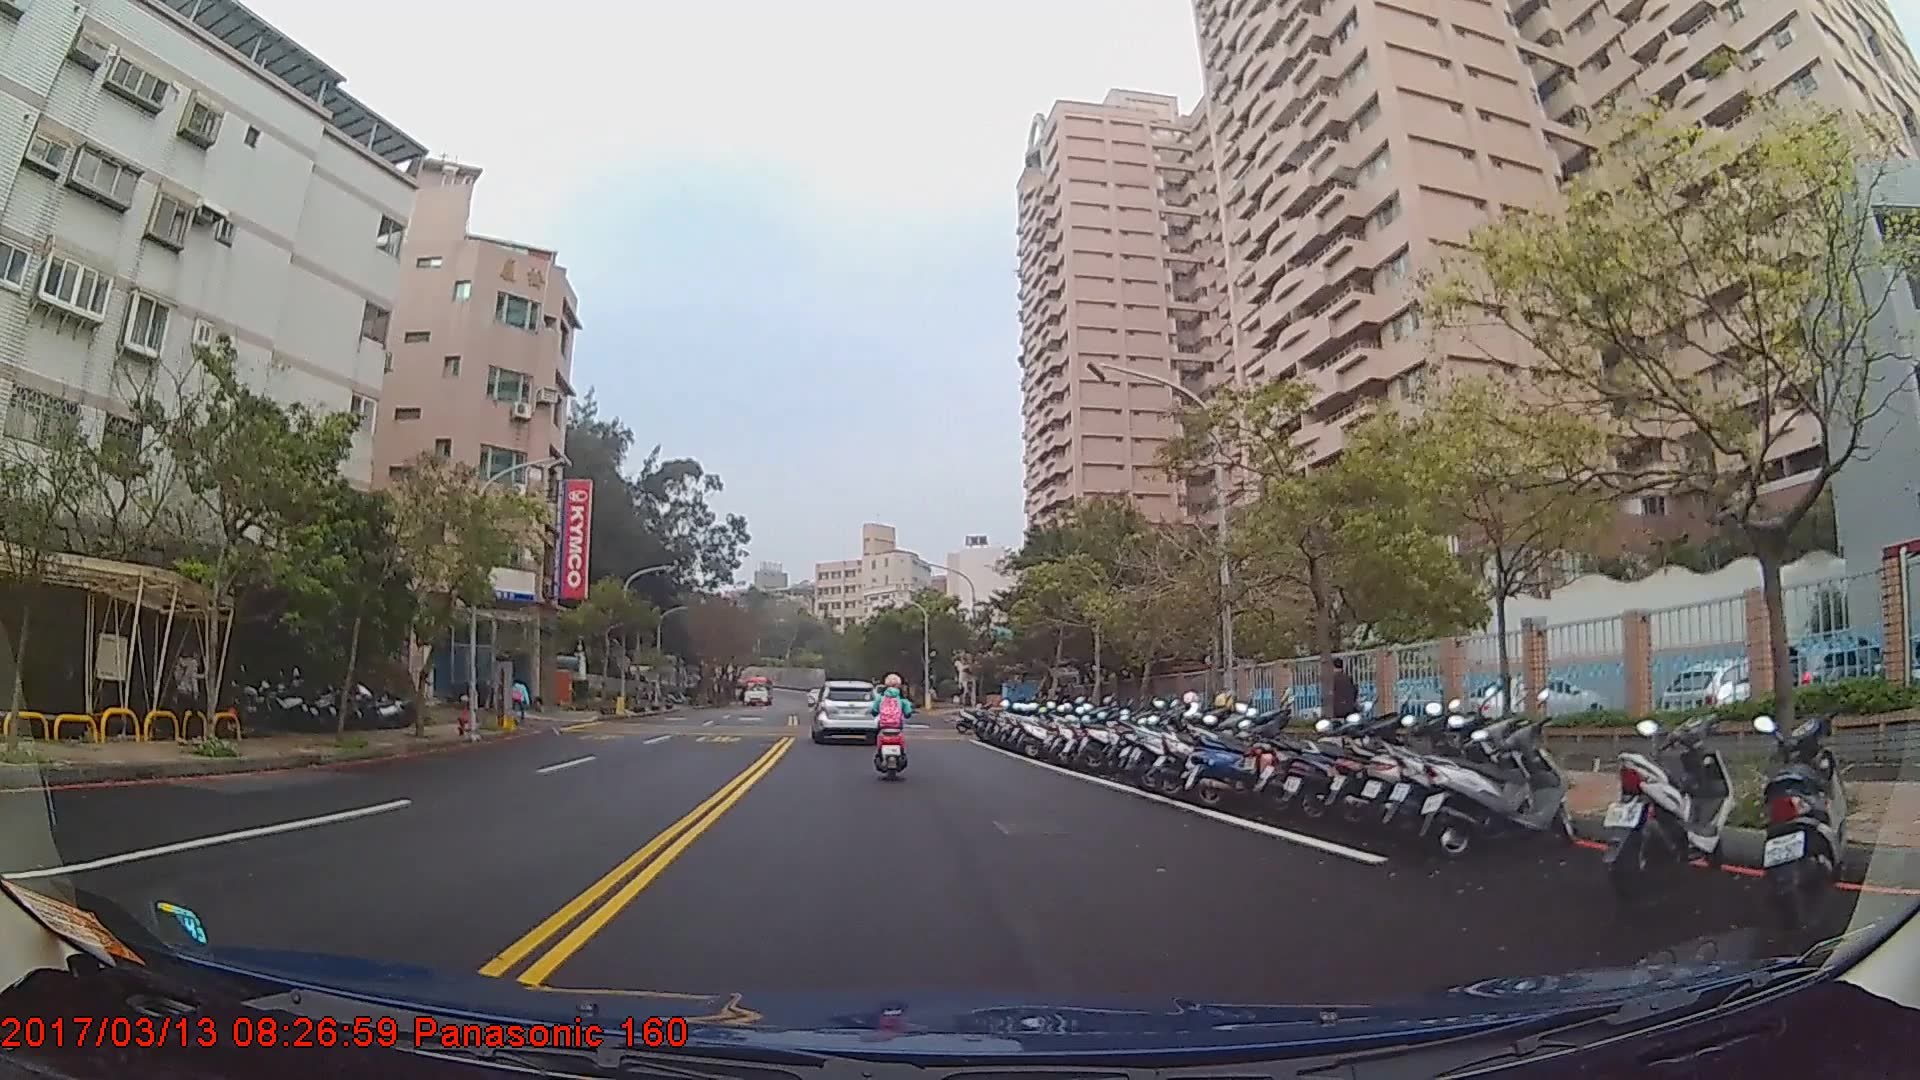pedestrian: (1318, 655, 1363, 757), (171, 640, 201, 747)
rider: (869, 673, 915, 783)
vehicle: (812, 677, 880, 744), (739, 673, 773, 707)
